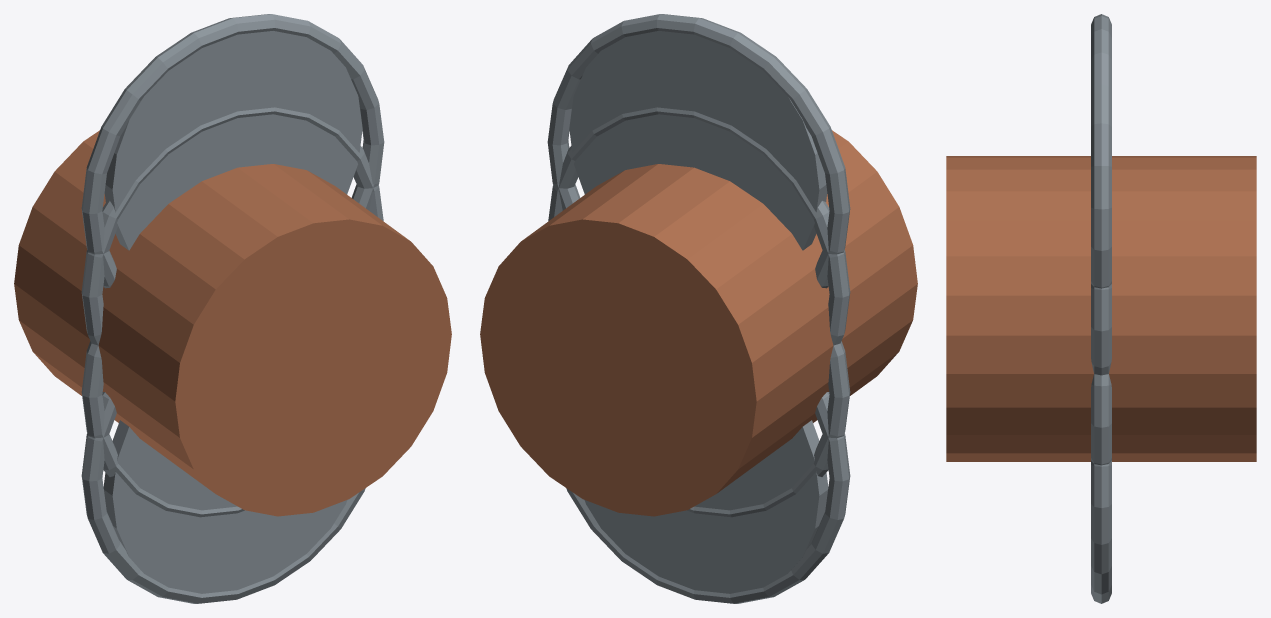
Rendered from barrel_01.glb.
The picture shows the model from 3 angles, left to right: view 1: azimuth 30°, elevation 25°; view 2: azimuth 150°, elevation 25°; view 3: azimuth 270°, elevation 25°; orthographic projection. The views are drawn at different scales.
Parts seen in each view (by area): view 1: world; view 2: world; view 3: world.
Part boxes in pixels (<box>): world: <box>14,14,451,603</box>; world: <box>480,14,917,603</box>; world: <box>946,14,1256,603</box>.
Size of the model in its own units: 1.13 by 2.09 by 1.05.
